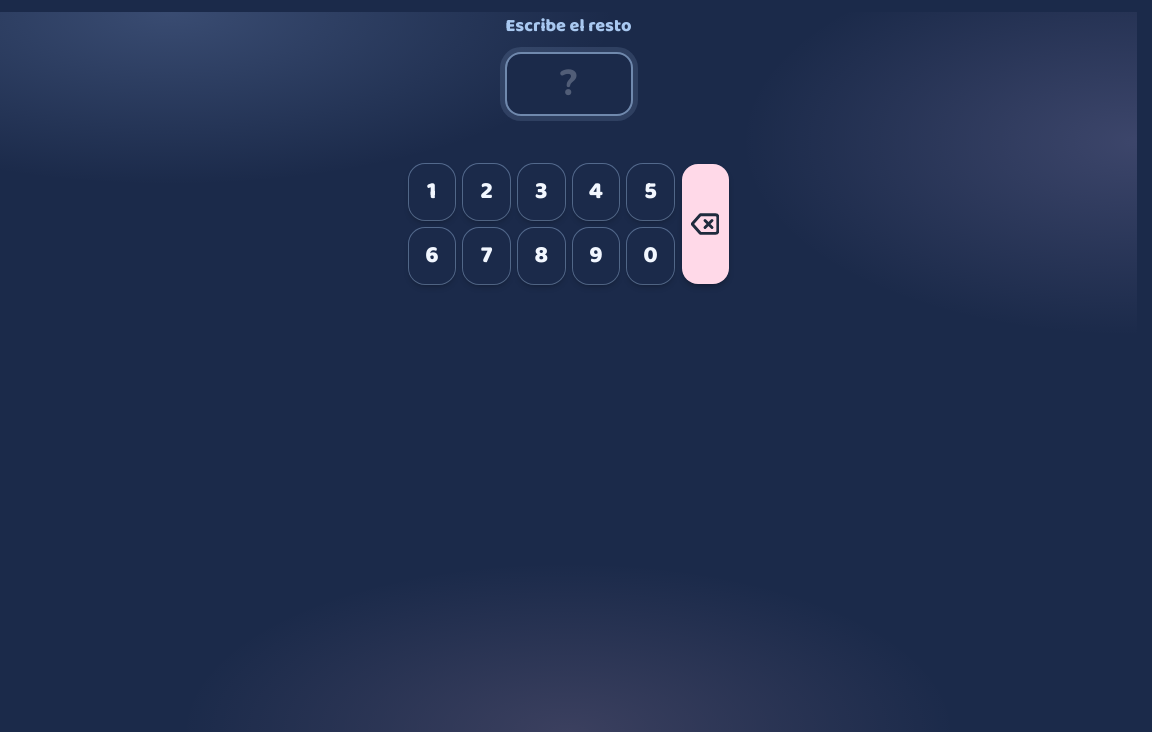
Test: DigitInput con teclado en pantalla › escribe con las teclas y borra la última cifra
The width and height of the screenshot is (1152, 732).
Click the button "2" at {"x": 487, "y": 192}, box [463,164,510,220]
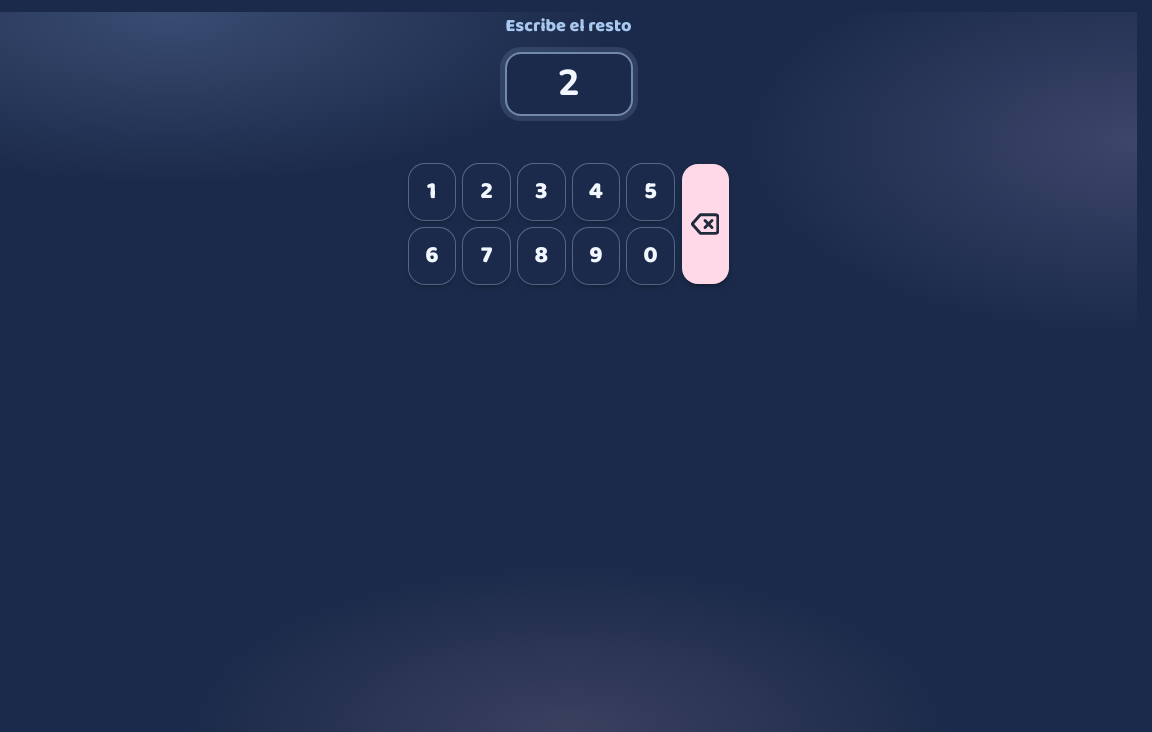
Click the button "8" at {"x": 541, "y": 256}, box [518,228,564,284]
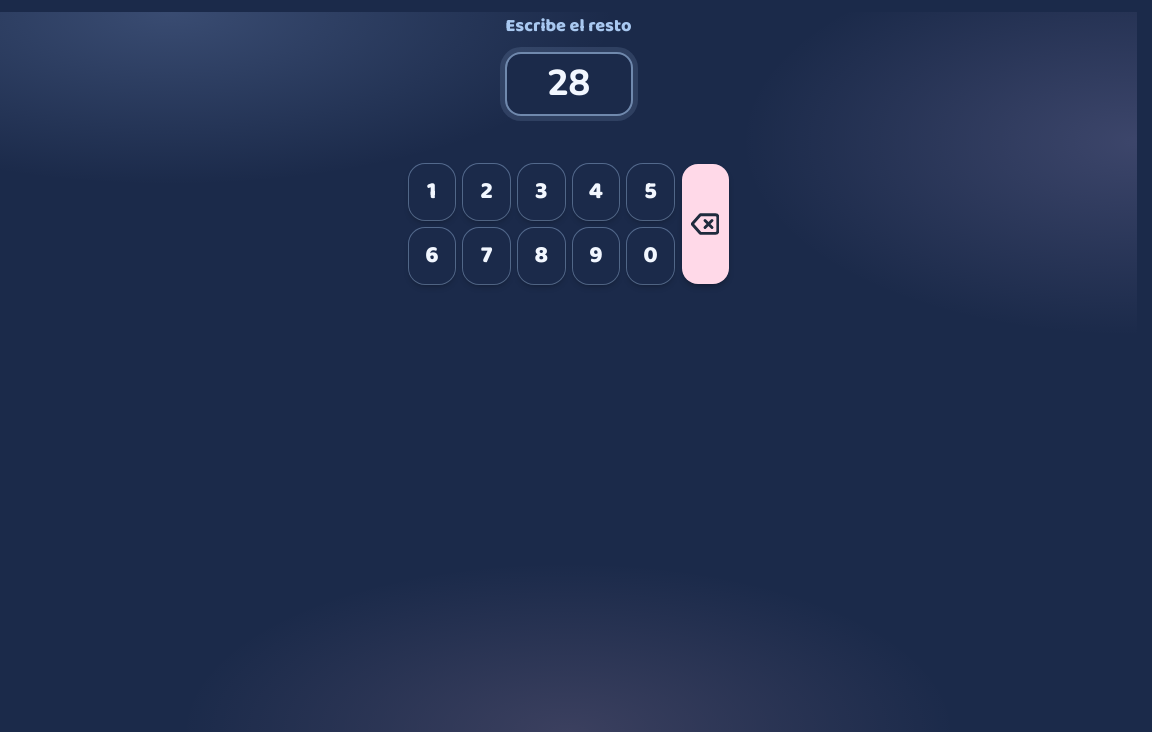
Result: the field labelled "Escribe el resto" holds "28" at [504,52,632,116]
Click the button named "Borrar" at {"x": 705, "y": 224}, box [682,164,728,284]
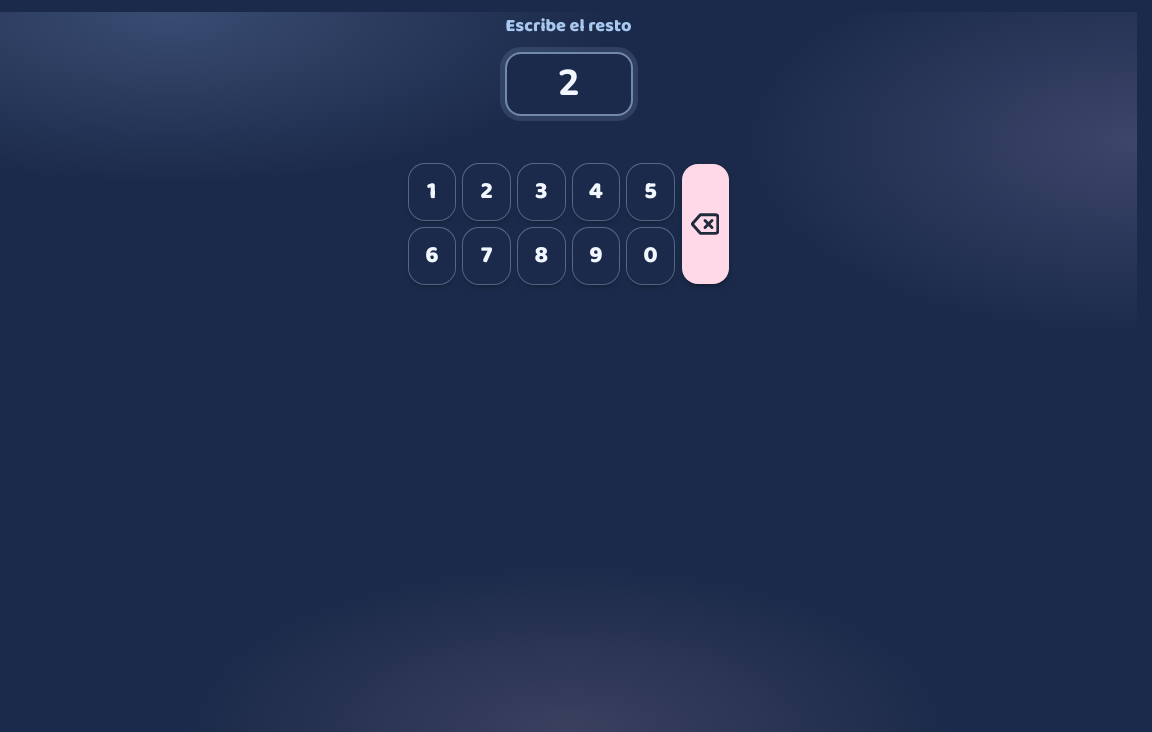
Result: the field labelled "Escribe el resto" holds "2" at [504,52,632,116]
